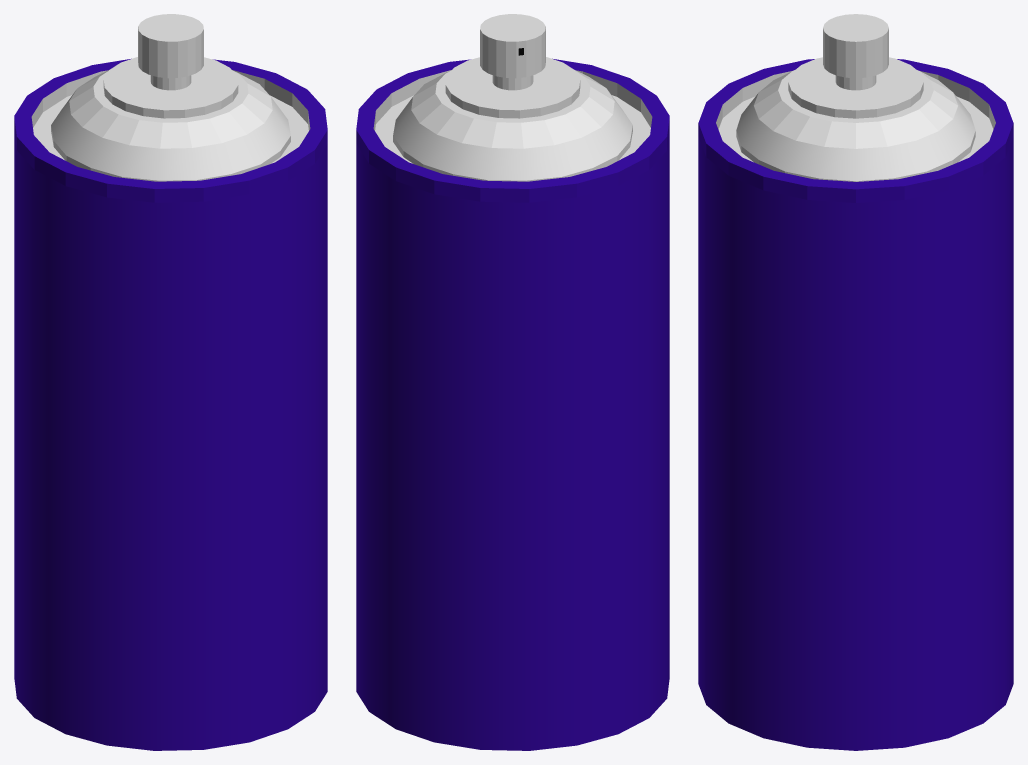
The model's file is spraycan.fbx.
The picture shows the model from 3 angles, left to right: view 1: azimuth 30°, elevation 25°; view 2: azimuth 150°, elevation 25°; view 3: azimuth 270°, elevation 25°; orthographic projection.
Parts seen in each view (by area): view 1: pCylinder1; view 2: pCylinder1; view 3: pCylinder1.
Boxes of the visible parts, x1,y1,x2,y2 form: pCylinder1: (14,14,327,750); pCylinder1: (356,14,669,750); pCylinder1: (698,14,1013,750).
Size of the model in its own units: 2 by 4.6 by 2.
